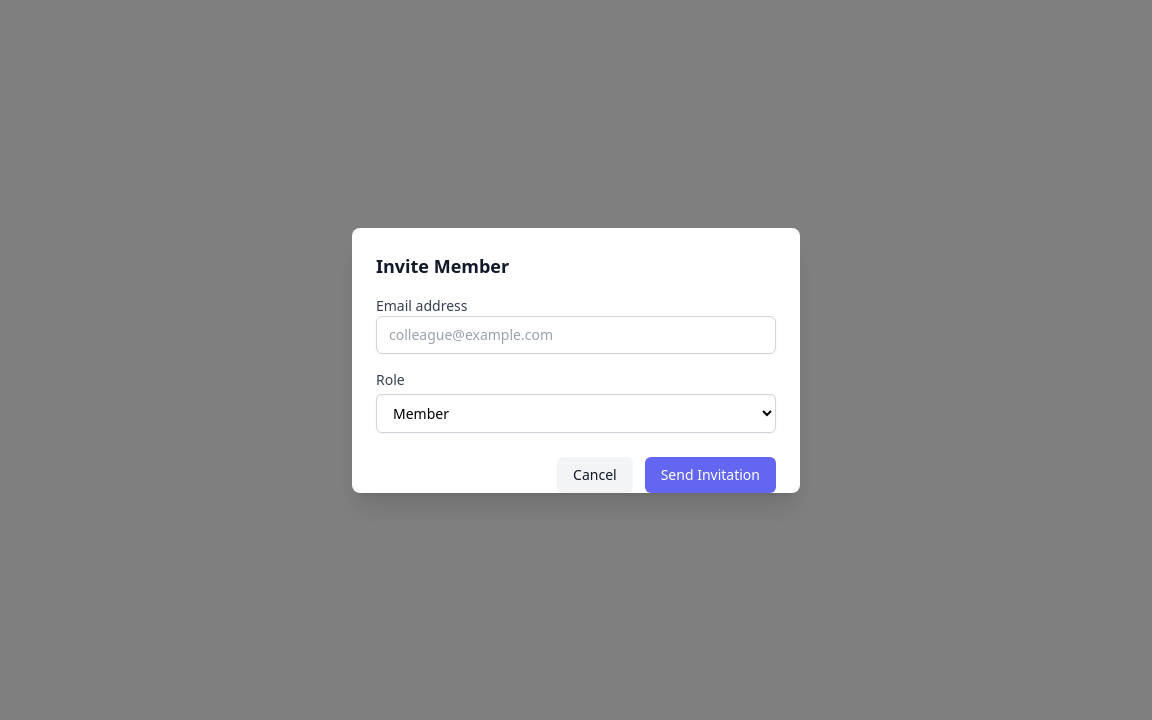
Test case: InviteMemberDialog › should show error message when submission fails
The width and height of the screenshot is (1152, 720).
In the field labelled "Email address": (576, 334) [376,316,776,354], type "test@example.com"
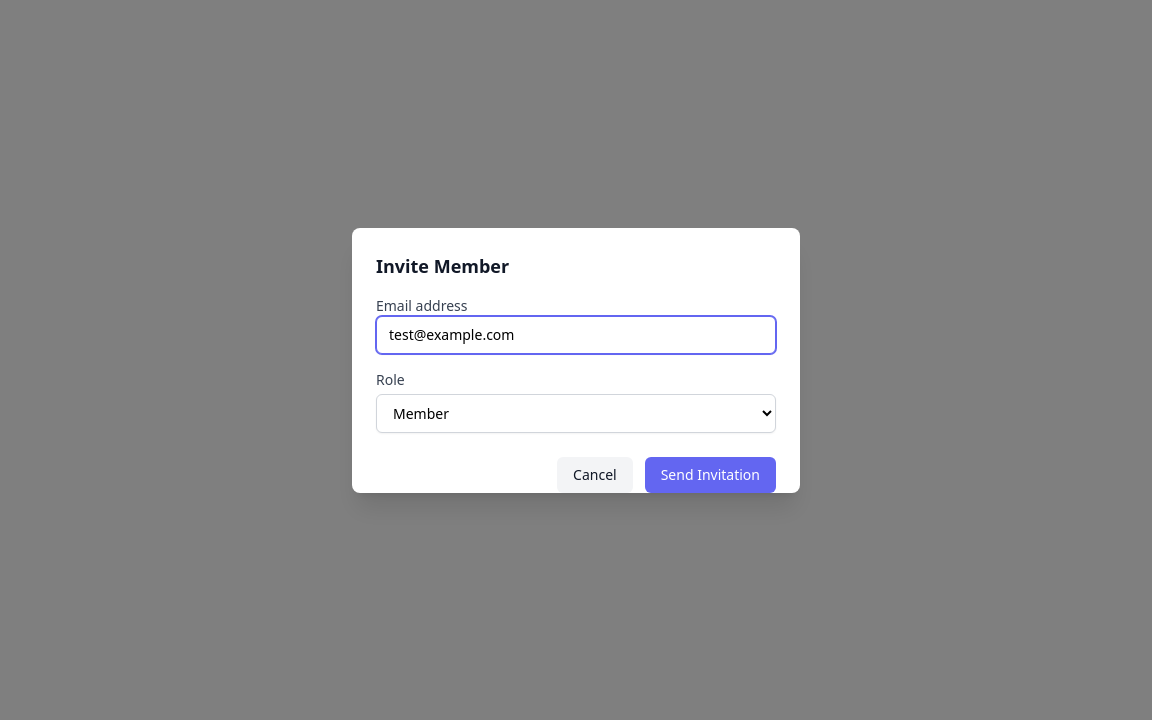
Click the button "Send Invitation": (710, 474) [645,456,776,492]
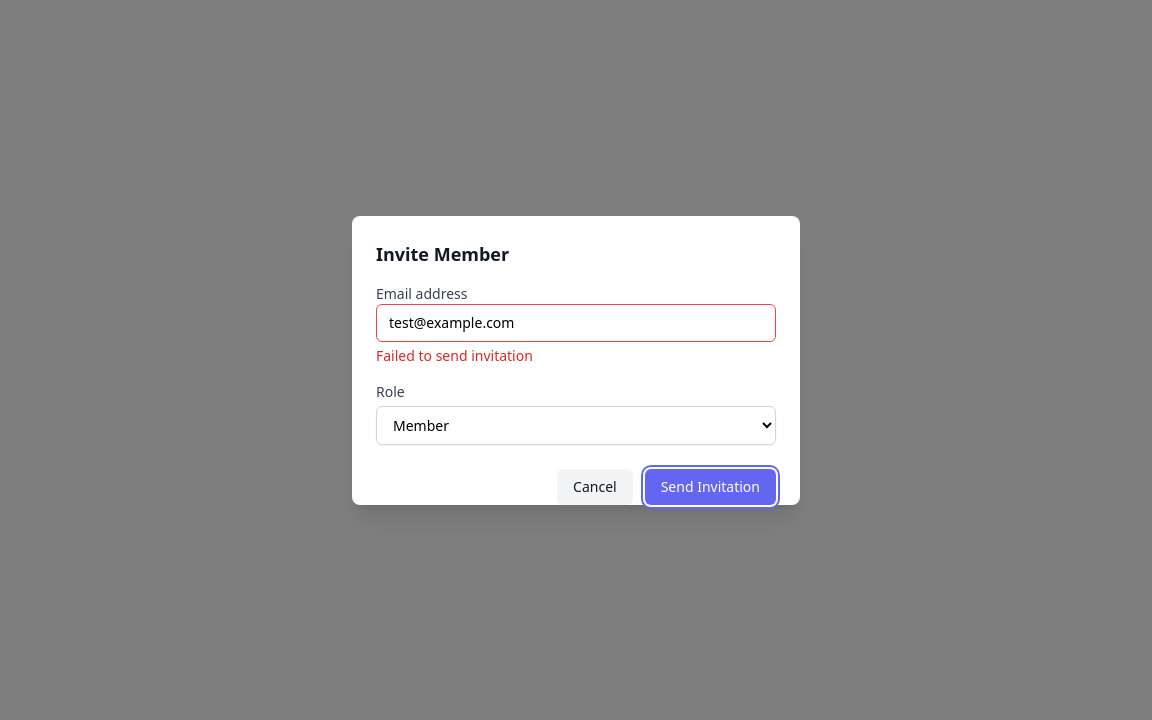
Expected: the text "Failed to send invitation" is shown, [376,346,533,364]
